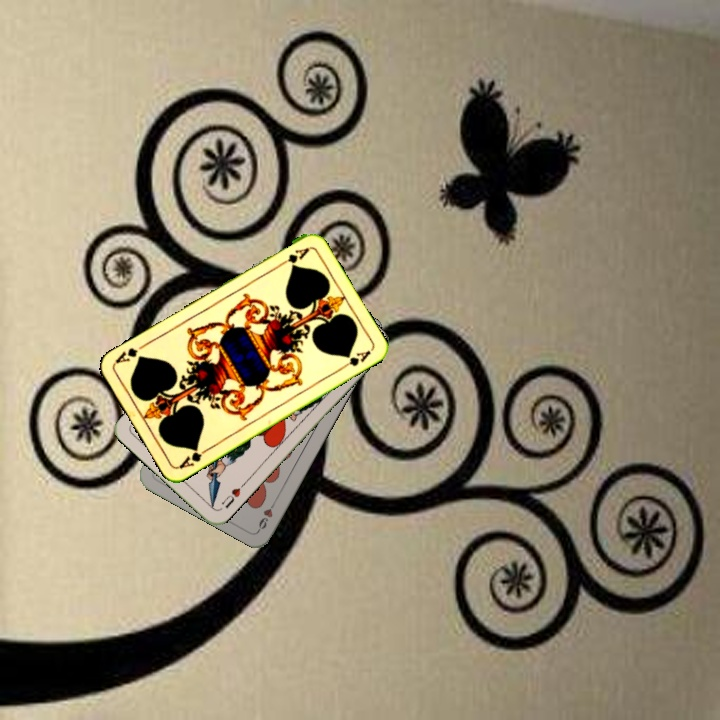GA: (175, 443, 212, 472), (274, 243, 312, 269)
H9: (254, 496, 279, 533)
HU: (217, 479, 247, 511)
